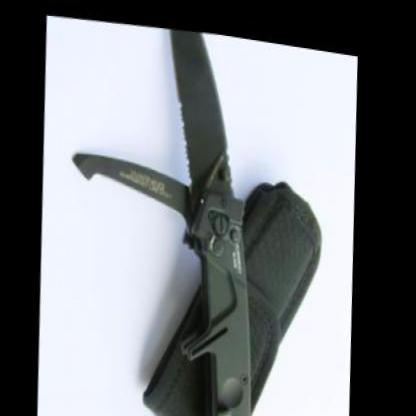knife: (158, 20, 257, 202)
